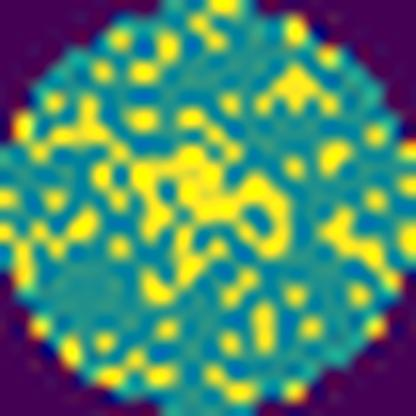Center: (130, 144, 291, 258)
